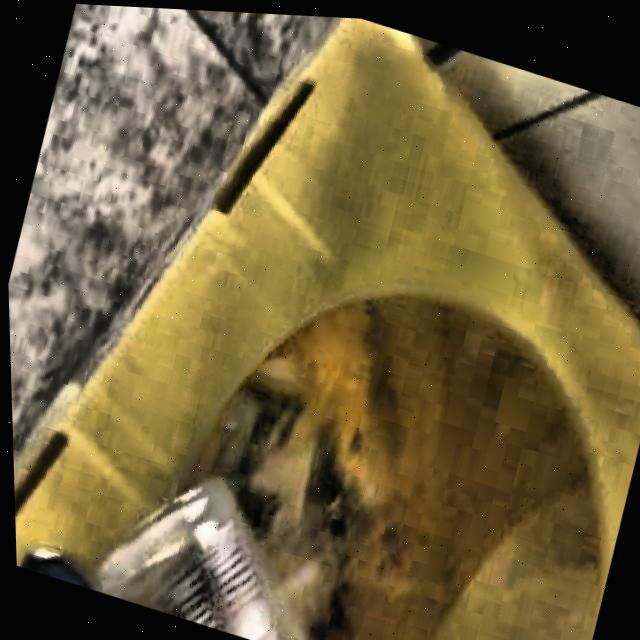plastic: (87, 477, 302, 640)
